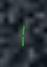one: (19, 19, 25, 47)
